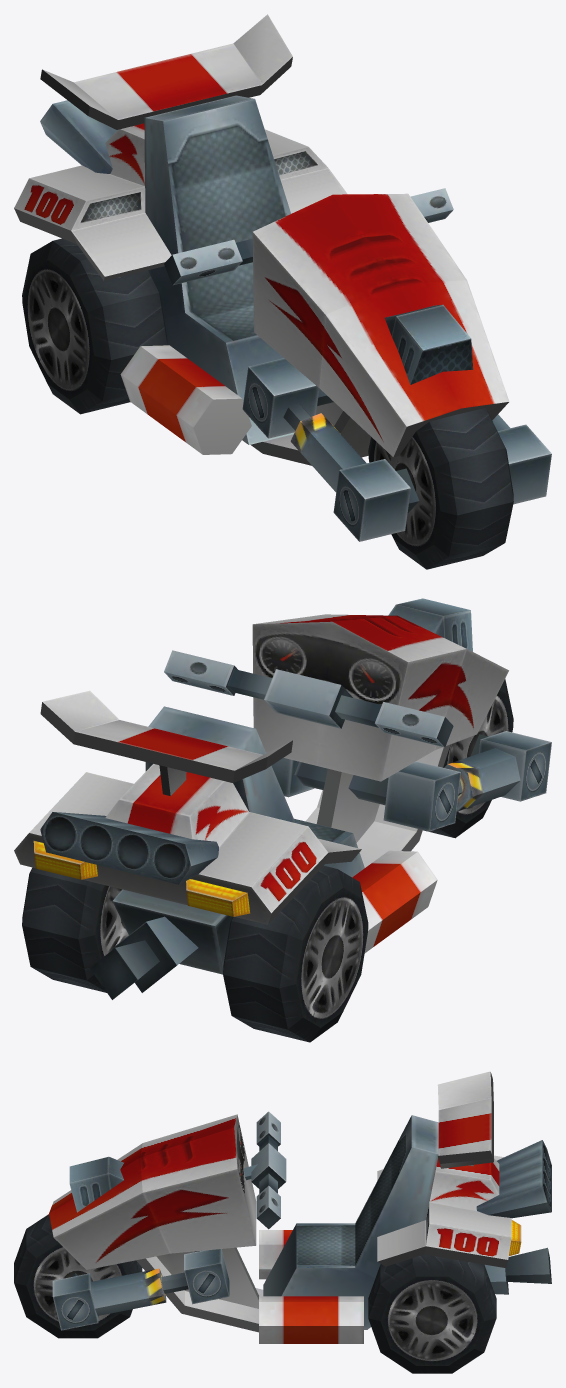
Rendered from Kick_AI.glb.
3 renders of one model, top to bottom at view 1: azimuth 30°, elevation 25°; view 2: azimuth 150°, elevation 25°; view 3: azimuth 270°, elevation 25°, orthographic. The views are drawn at different scales.
Parts seen in each view (by area): view 1: kart_kick, right_wheel, front_wheel; view 2: kart_kick, right_wheel, left_wheel, front_wheel; view 3: kart_kick, left_wheel, front_wheel.
Boxes of the visible parts, x1,y1,x2,y2 form: kart_kick: [14, 14, 551, 541]; right_wheel: [22, 238, 167, 414]; front_wheel: [368, 408, 513, 569]; kart_kick: [14, 598, 551, 999]; right_wheel: [223, 865, 368, 1042]; left_wheel: [22, 867, 128, 992]; front_wheel: [423, 679, 513, 838]; kart_kick: [49, 1071, 551, 1343]; left_wheel: [368, 1254, 496, 1373]; front_wheel: [14, 1214, 142, 1338].
Size of the model in its own units: 1.89 by 1.99 by 4.46.
1 material, 1 textured.
